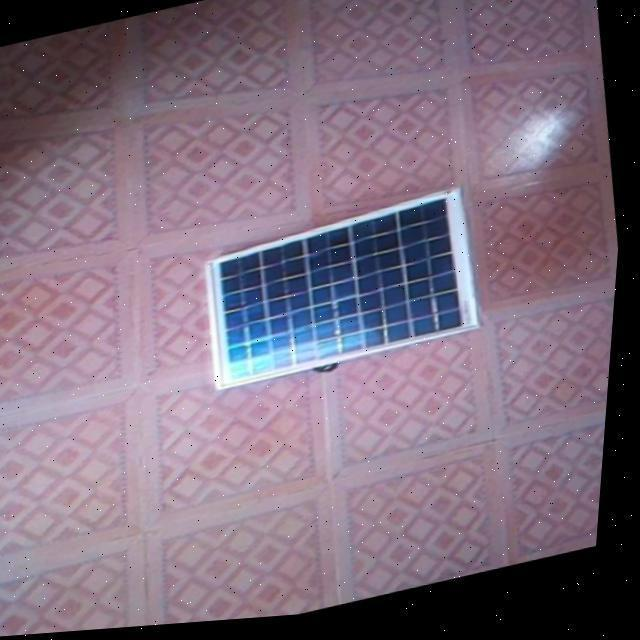Normal Solar Panel: (200, 192, 494, 399)
